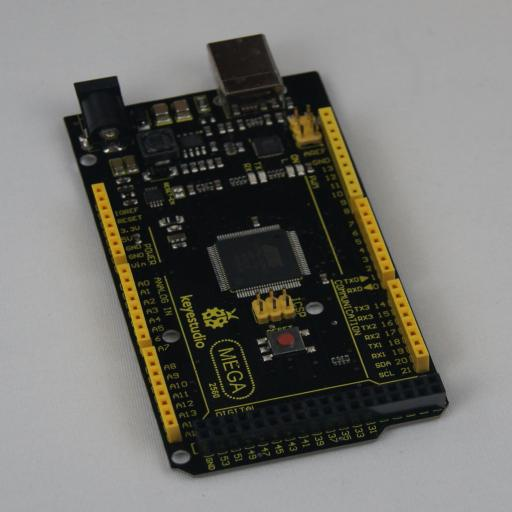Arduino Mega 2560 -Black and Yellow-: (64, 34, 448, 478)
